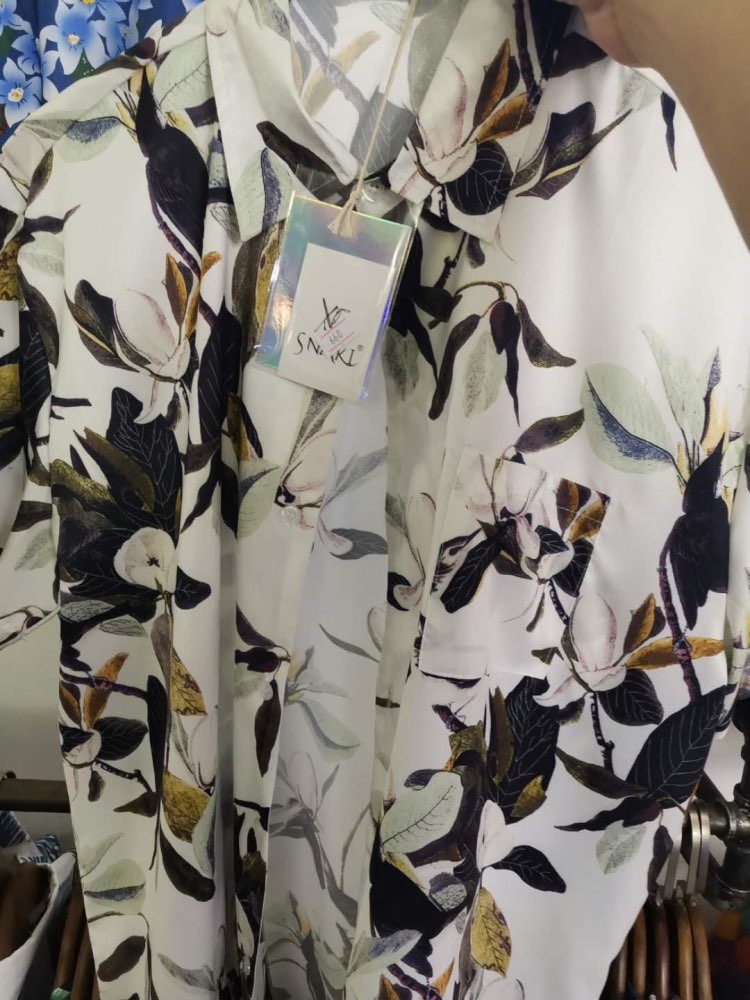shirts: (34, 17, 750, 964)
